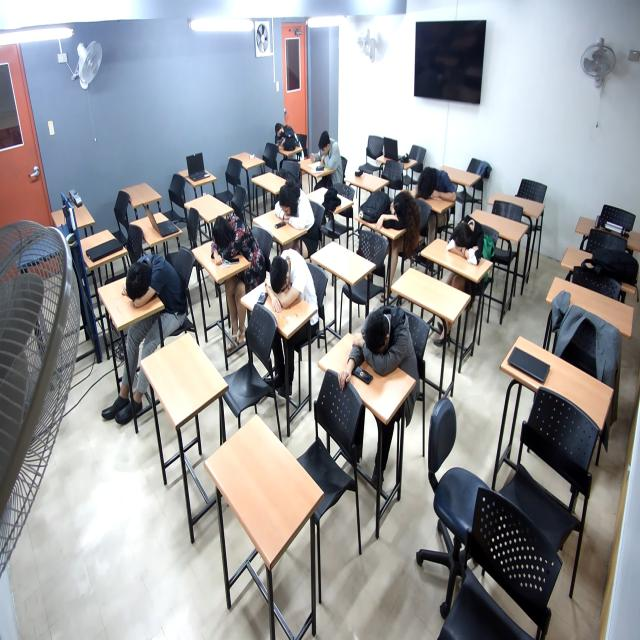sleep: (359, 301, 412, 376), (120, 254, 177, 311), (267, 248, 314, 317), (208, 213, 261, 272), (446, 216, 491, 269), (275, 181, 312, 235), (382, 191, 423, 239), (417, 168, 459, 205), (276, 126, 289, 143)
